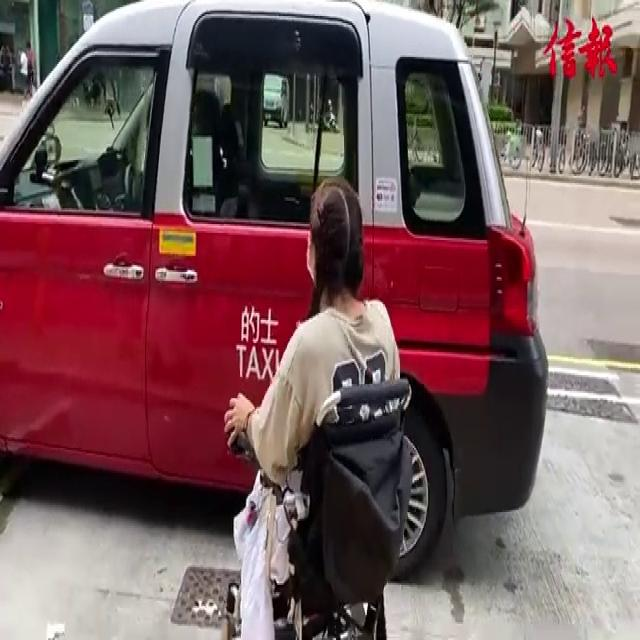wheelchairs: (210, 328, 419, 640)
